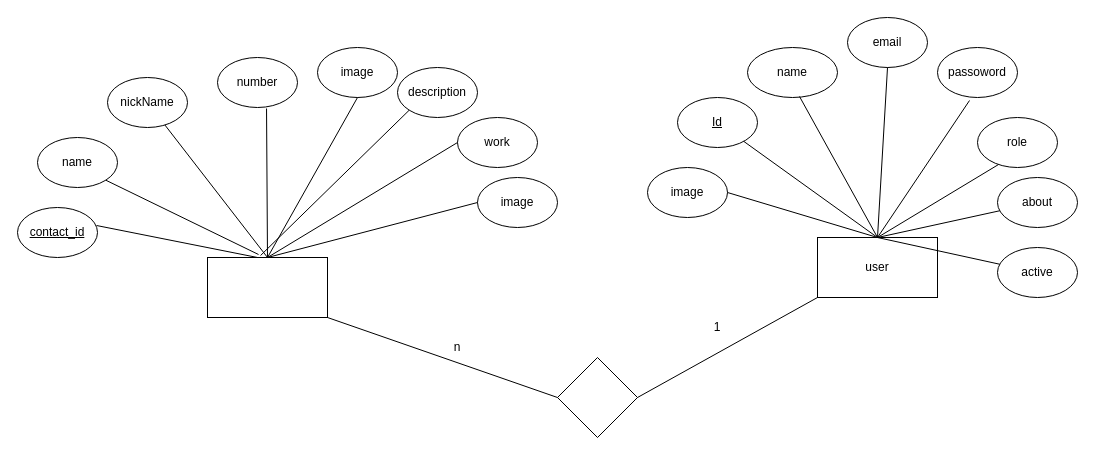
Image size: 1095x455. Some labels were removed from this diagram. Each missing label, with the centre of its shape:
Contact: the point at 267,287
has: the point at 597,397
